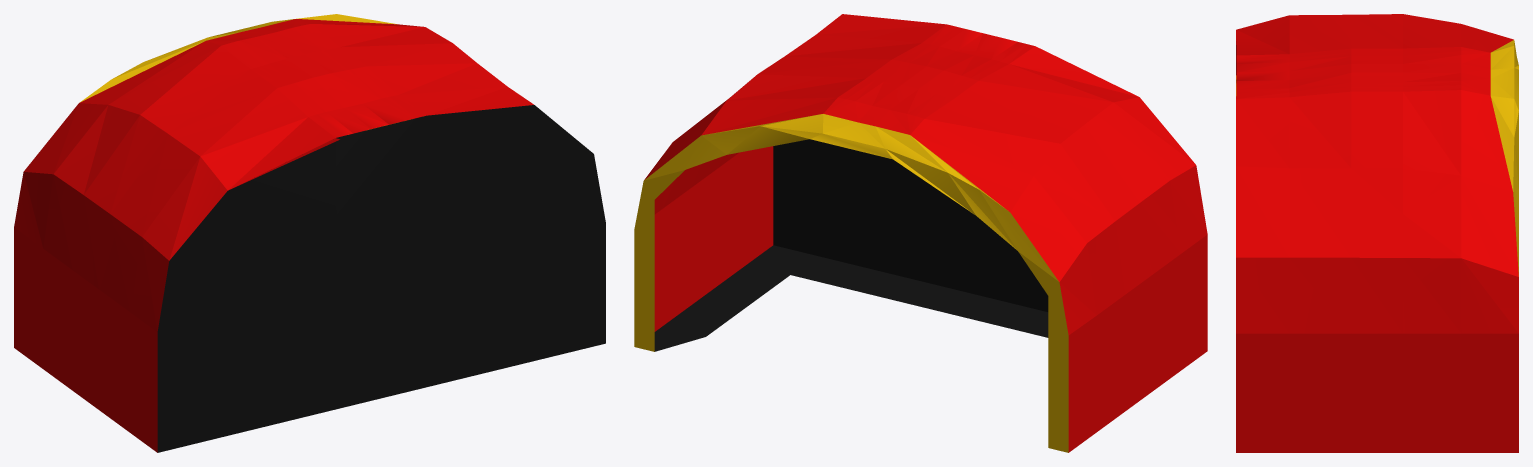
The model's file is Cowl.1cRR.Export.glb.
3 renders of one model, left to right at view 1: azimuth 30°, elevation 25°; view 2: azimuth 150°, elevation 25°; view 3: azimuth 270°, elevation 25°, orthographic. The views are drawn at different scales.
Visible parts, largest first — view 1: Cube.00RR; view 2: Cube.00RR; view 3: Cube.00RR.
Part boxes in pixels (<box>): Cube.00RR: <box>14,14,605,452</box>; Cube.00RR: <box>634,14,1207,452</box>; Cube.00RR: <box>1236,14,1518,452</box>.
Bounding box in the file's own units: 0.9375 × 0.5612 × 0.5198.
